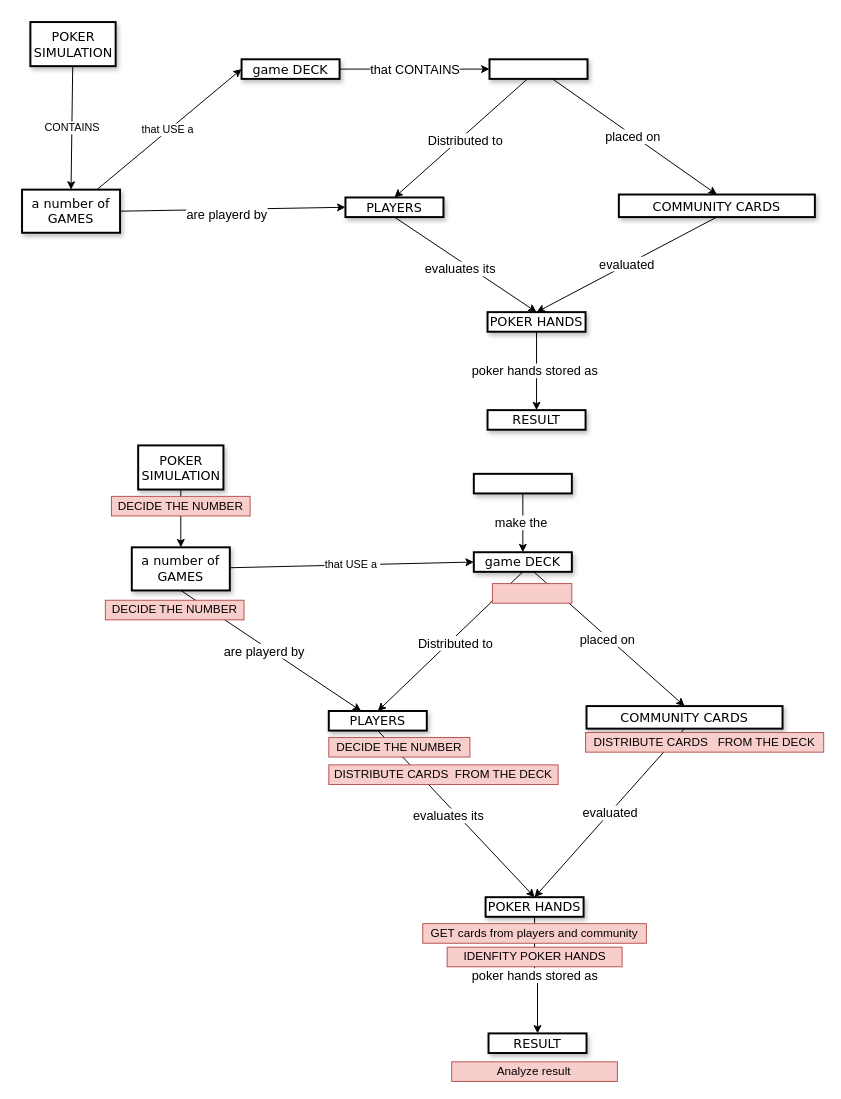
This 841x1099 diagram has some shape labels left out. The shapes that lost their labels are listed below. From the top down, each one's centre as x and y in pixels, then its label:
point 539,70: CARDs
point 523,484: CARD
point 531,593: SHUFFLED
